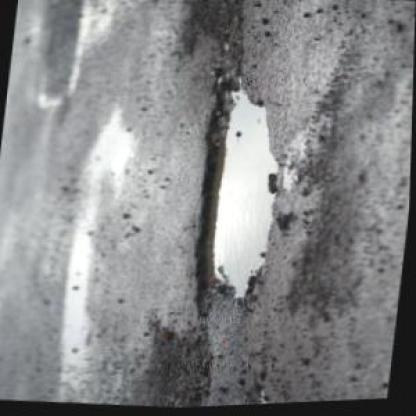pothole: (182, 72, 291, 313)
